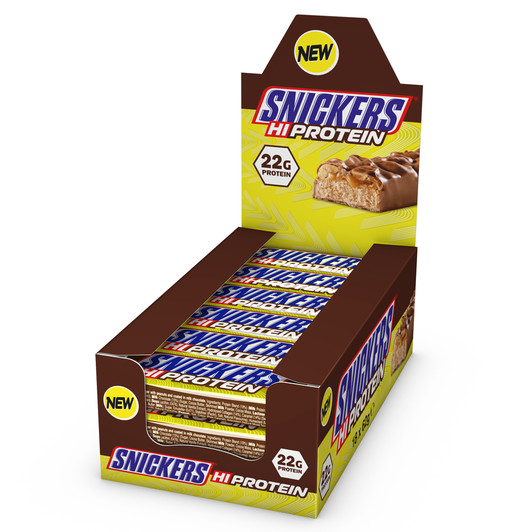snickers: (335, 301, 394, 434), (256, 87, 403, 129), (137, 350, 279, 385), (108, 449, 208, 482), (137, 350, 280, 373), (110, 449, 208, 482), (159, 330, 293, 352), (196, 304, 309, 330), (215, 282, 329, 306), (239, 264, 345, 287), (245, 246, 360, 267), (256, 245, 361, 267), (108, 447, 209, 463), (108, 449, 209, 465), (159, 342, 293, 352)
